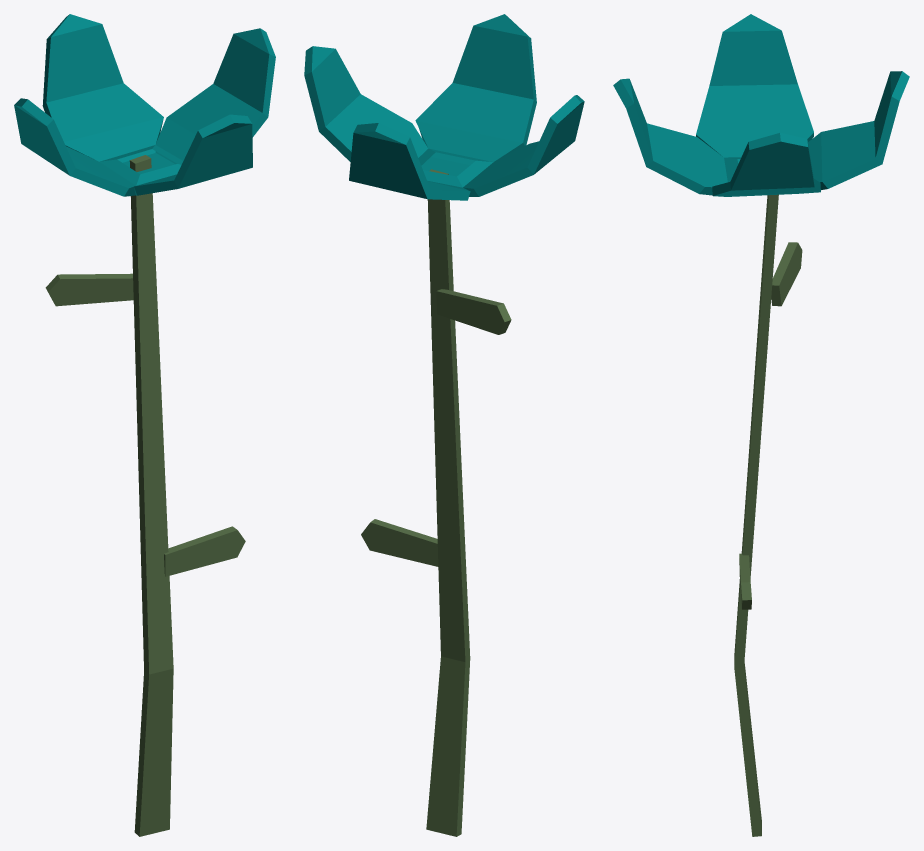
The model's file is Flower_4.glb.
3 views of the same model, side by side, from view 1: azimuth 30°, elevation 25°; view 2: azimuth 150°, elevation 25°; view 3: azimuth 270°, elevation 25° (orthographic).
Parts seen in each view (by area): view 1: Flower_4; view 2: Flower_4; view 3: Flower_4.
Part boxes in pixels (<box>): Flower_4: <box>14,14,275,836</box>; Flower_4: <box>304,14,584,836</box>; Flower_4: <box>613,14,909,836</box>.
Size of the model in its own units: 0.2918 by 0.8209 by 0.2926.
